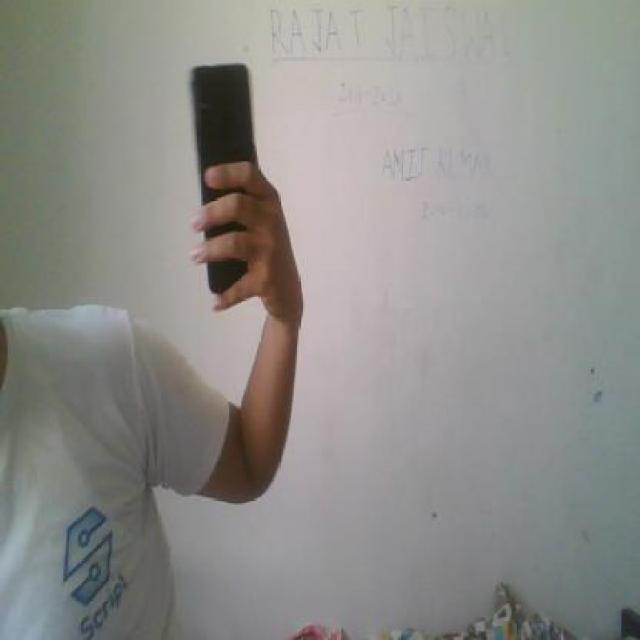Phone: (184, 59, 260, 300)
